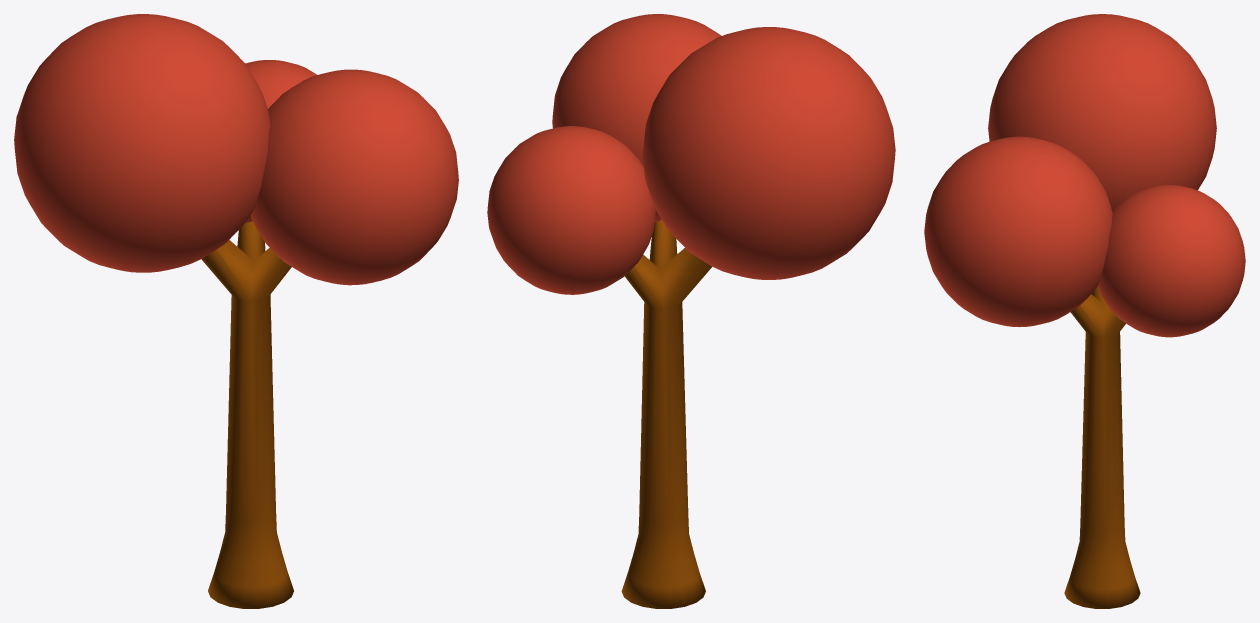
File: OakTreeRed.gltf
The picture shows the model from 3 angles, left to right: view 1: azimuth 30°, elevation 25°; view 2: azimuth 150°, elevation 25°; view 3: azimuth 270°, elevation 25°; orthographic projection. The views are drawn at different scales.
Parts seen in each view (by area): view 1: Cylinder.003; view 2: Cylinder.003; view 3: Cylinder.003.
Part boxes in pixels (left/top/right/bottom): Cylinder.003: left=14, top=14, right=458, bottom=608; Cylinder.003: left=487, top=14, right=895, bottom=608; Cylinder.003: left=924, top=14, right=1245, bottom=608.
Size of the model in its own units: 9.8 by 15.11 by 8.43.
